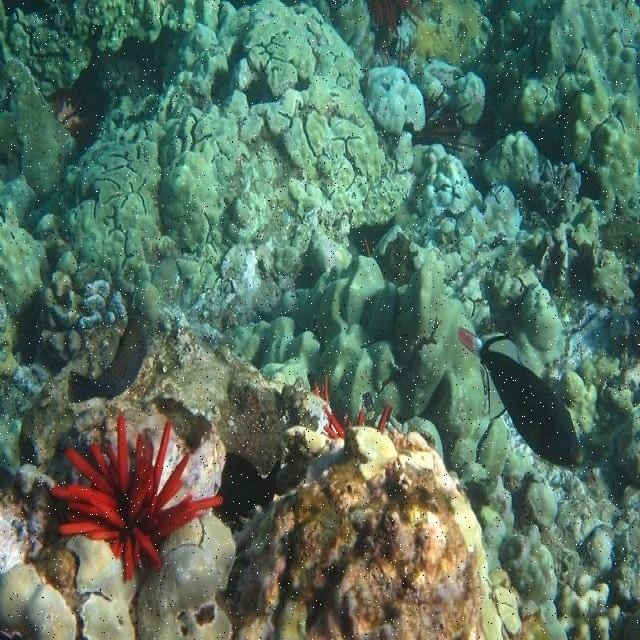fish: (458, 326, 583, 467), (69, 319, 146, 403)
reefs: (50, 413, 223, 581)
